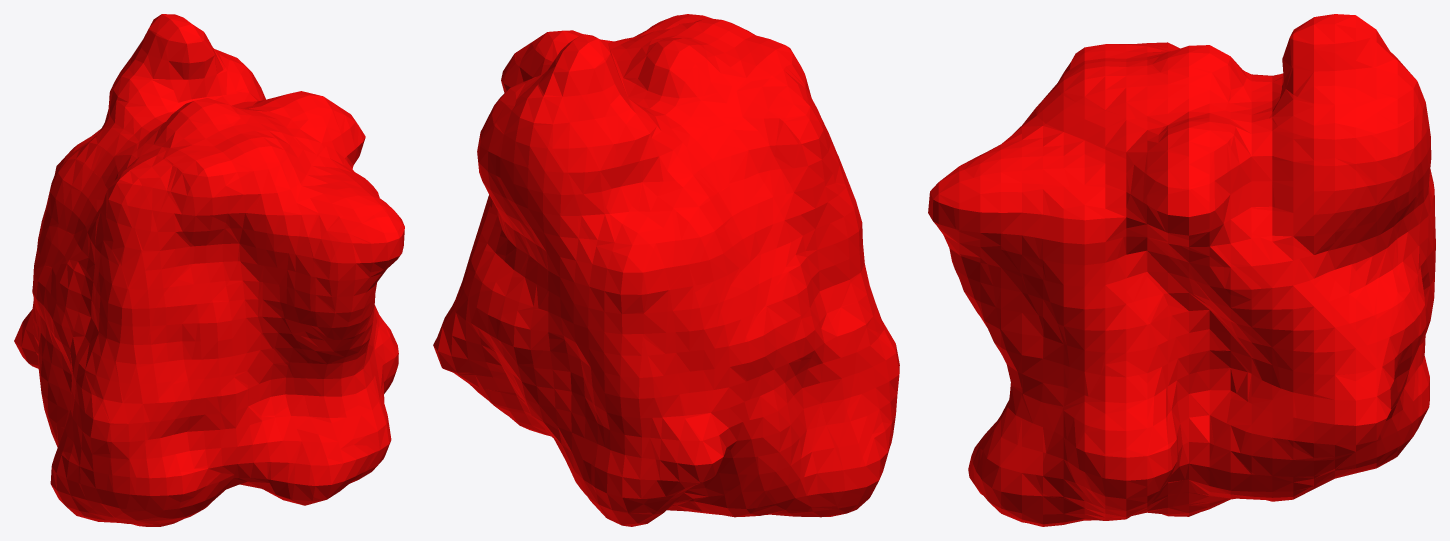
File: nuoN_coarse.dae
The picture shows the model from 3 angles, left to right: view 1: azimuth 30°, elevation 25°; view 2: azimuth 150°, elevation 25°; view 3: azimuth 270°, elevation 25°; orthographic projection. The views are drawn at different scales.
Parts seen in each view (by area): view 1: nuoN; view 2: nuoN; view 3: nuoN.
Part boxes in pixels (<box>): nuoN: <box>14,14,404,526</box>; nuoN: <box>433,14,899,526</box>; nuoN: <box>928,14,1435,526</box>.
Size of the model in its own units: 53.27 by 67.95 by 58.89.
